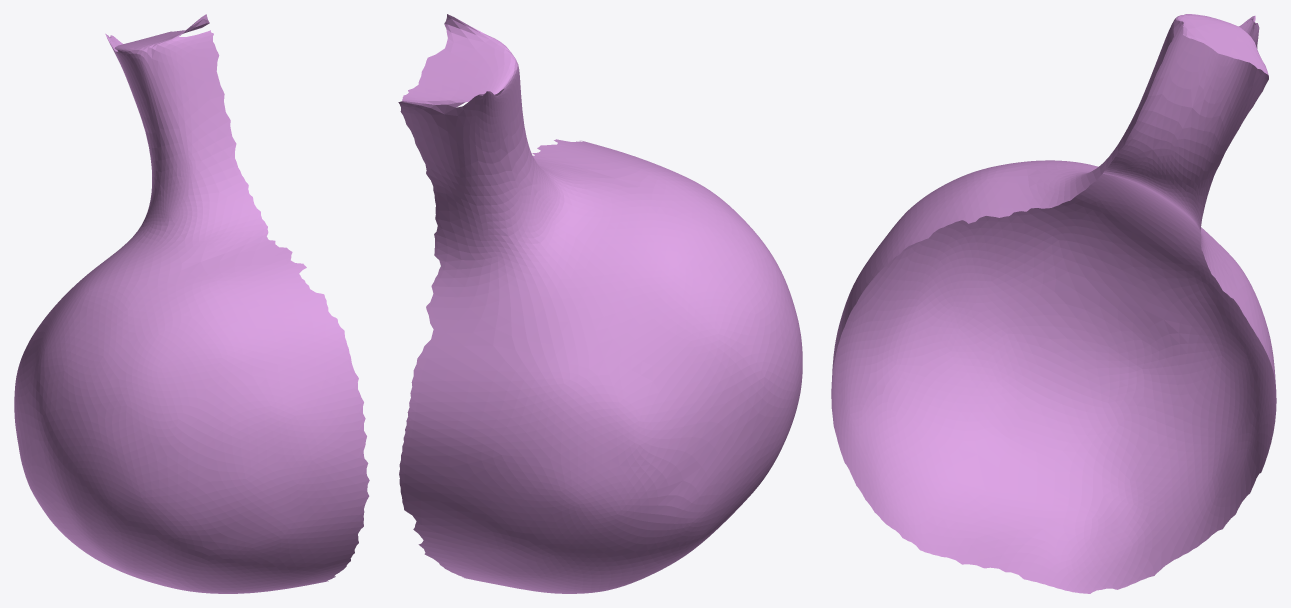
File: ipofisi_interno.glb
3 views of the same model, side by side, from view 1: azimuth 30°, elevation 25°; view 2: azimuth 150°, elevation 25°; view 3: azimuth 270°, elevation 25° (orthographic). The views are drawn at different scales.
Visible parts, largest first — view 1: pituitary gland; view 2: pituitary gland; view 3: pituitary gland.
Part boxes in pixels (left/top/right/bottom): pituitary gland: left=14, top=14, right=369, bottom=593; pituitary gland: left=398, top=14, right=802, bottom=593; pituitary gland: left=831, top=14, right=1276, bottom=593.
Bounding box in the file's own units: 6.06 × 13.24 × 9.38.
